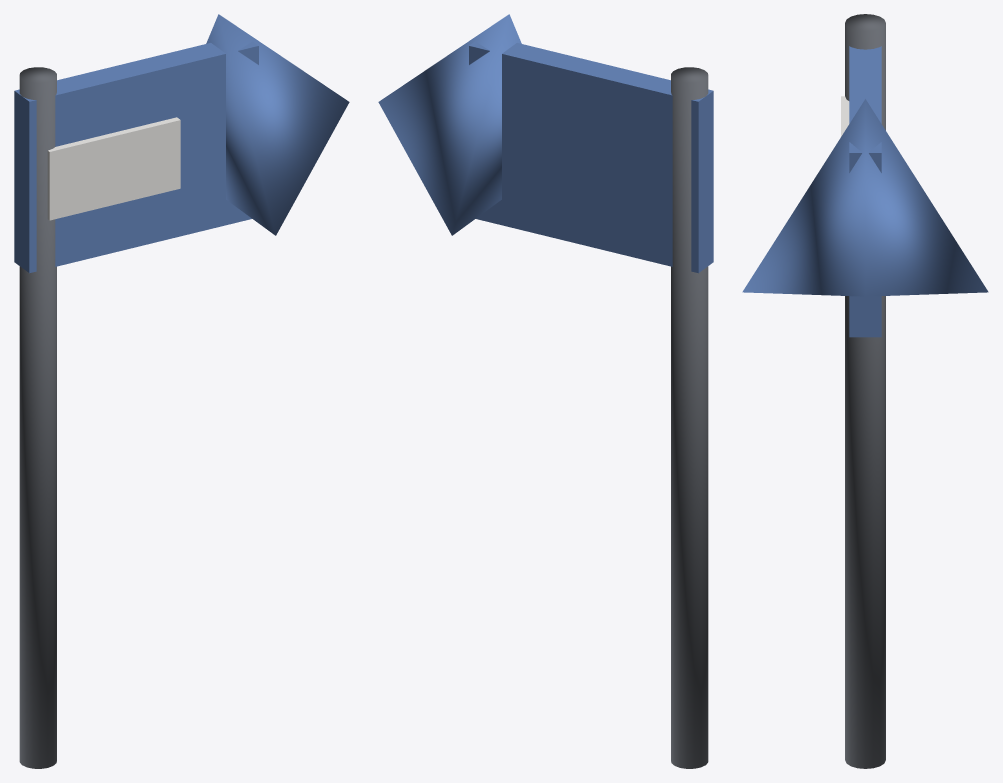
The model's file is prop_tate_arrow_blue.glb.
The picture shows the model from 3 angles, left to right: view 1: azimuth 30°, elevation 25°; view 2: azimuth 150°, elevation 25°; view 3: azimuth 270°, elevation 25°; orthographic projection. The views are drawn at different scales.
Parts seen in each view (by area): view 1: tate_arrow_blue; view 2: tate_arrow_blue; view 3: tate_arrow_blue.
Boxes of the visible parts, left/top/right/bottom form: tate_arrow_blue: left=14, top=14, right=349, bottom=768; tate_arrow_blue: left=378, top=14, right=713, bottom=768; tate_arrow_blue: left=742, top=14, right=988, bottom=768.
Size of the model in its own units: 1 by 2.05 by 0.6062.
